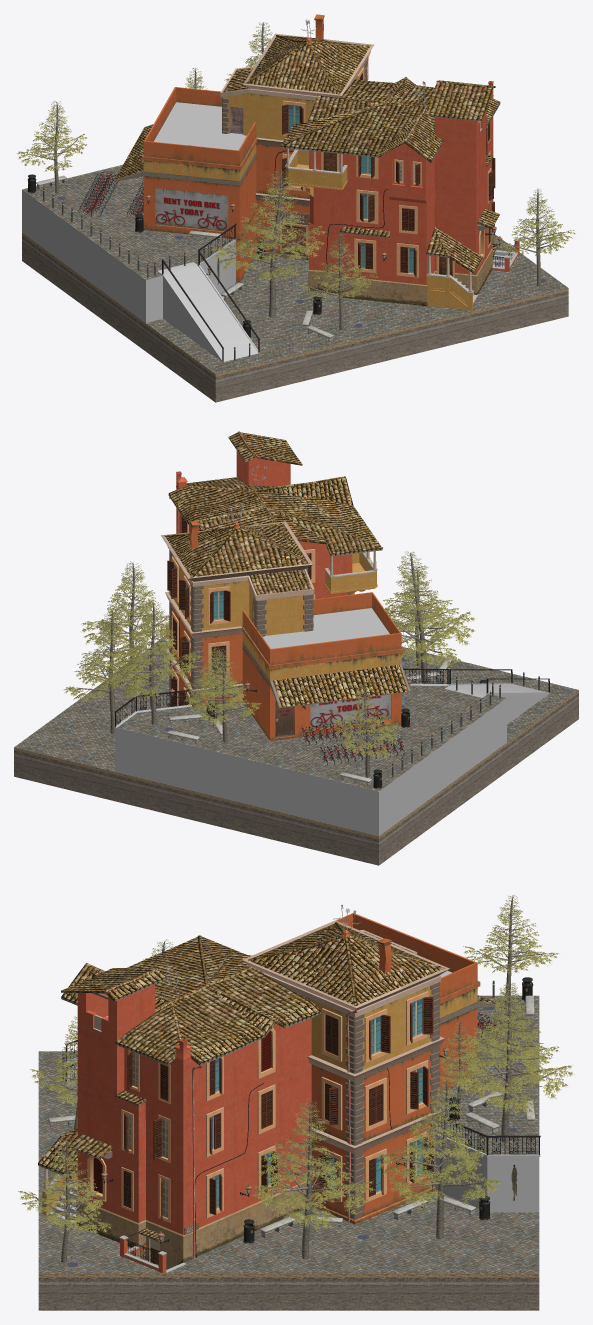
Rendered from CityScene.fbx.
The picture shows the model from 3 angles, top to bottom: view 1: azimuth 30°, elevation 25°; view 2: azimuth 150°, elevation 25°; view 3: azimuth 270°, elevation 25°; orthographic projection. The views are drawn at different scales.
Visible parts, largest first — view 1: House, Ground Layer, Top Layer, House3, House_2, Tree, Tree016, Tree015, Tree022, Tree019; view 2: Top Layer, Ground Layer, House_2, House3, House, Tree, Tree019, Tree018, Tree017, Tree021, Tree022, Tree015 (+1 smaller); view 3: House, Ground Layer, House_2, Top Layer, Tree018, Tree017, Tree019, House3, Tree016, Tree022, Tree021, Tree015 (+1 smaller).
Part boxes in pixels (bbox=[...]): House: bbox=[280, 77, 519, 310]; Ground Layer: bbox=[22, 233, 568, 402]; Top Layer: bbox=[22, 165, 259, 362]; House3: bbox=[113, 87, 257, 282]; House_2: bbox=[220, 14, 373, 260]; Tree: bbox=[211, 169, 326, 317]; Tree016: bbox=[498, 188, 575, 286]; Tree015: bbox=[300, 233, 377, 330]; Tree022: bbox=[17, 101, 86, 193]; Tree019: bbox=[224, 22, 272, 81]; Top Layer: bbox=[114, 668, 549, 836]; Ground Layer: bbox=[14, 638, 578, 865]; House_2: bbox=[161, 503, 314, 707]; House3: bbox=[241, 592, 410, 740]; House: bbox=[165, 431, 382, 641]; Tree: bbox=[383, 551, 476, 683]; Tree019: bbox=[100, 600, 202, 724]; Tree018: bbox=[63, 610, 154, 733]; Tree017: bbox=[81, 561, 169, 686]; Tree021: bbox=[184, 648, 260, 742]; Tree022: bbox=[333, 684, 400, 777]; Tree015: bbox=[385, 567, 444, 666]; House: bbox=[38, 935, 320, 1273]; Ground Layer: bbox=[38, 1051, 539, 1310]; House_2: bbox=[242, 904, 449, 1224]; Top Layer: bbox=[65, 995, 540, 1212]; Tree018: bbox=[374, 1079, 501, 1238]; Tree017: bbox=[252, 1099, 375, 1259]; Tree019: bbox=[452, 984, 574, 1142]; House3: bbox=[336, 913, 504, 1093]; Tree016: bbox=[18, 1138, 112, 1262]; Tree022: bbox=[463, 895, 558, 1009]; Tree021: bbox=[472, 981, 559, 1062]; Tree015: bbox=[29, 1016, 77, 1129].
Size of the model in its own units: 2709 by 1631 by 2650.
